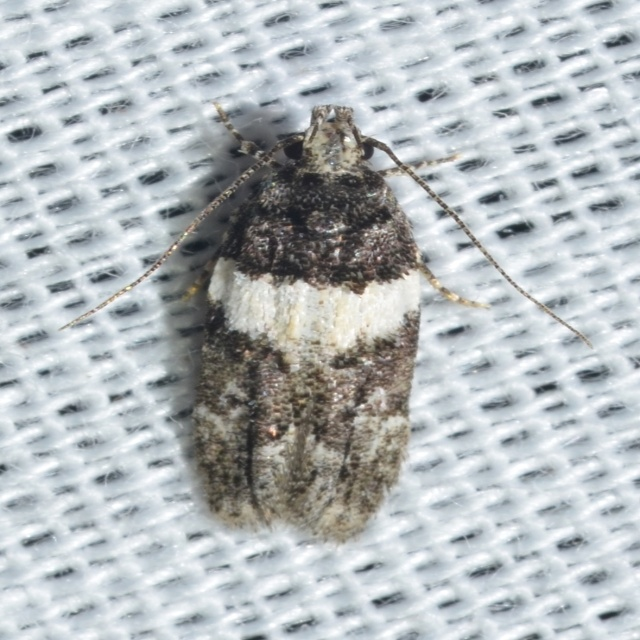Moths and butterflies: (54, 101, 595, 543)
